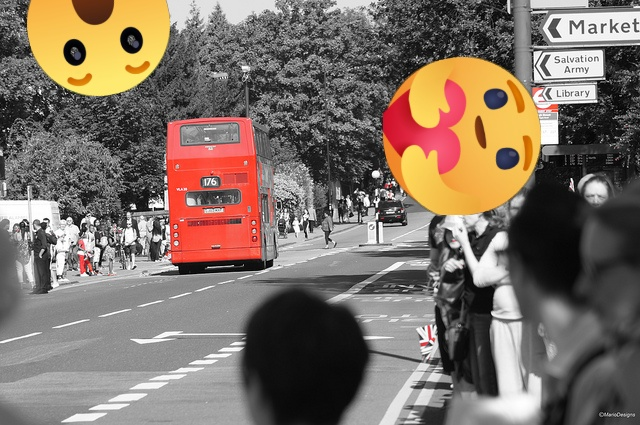care: (383, 57, 541, 215)
wow: (27, 0, 170, 96)
